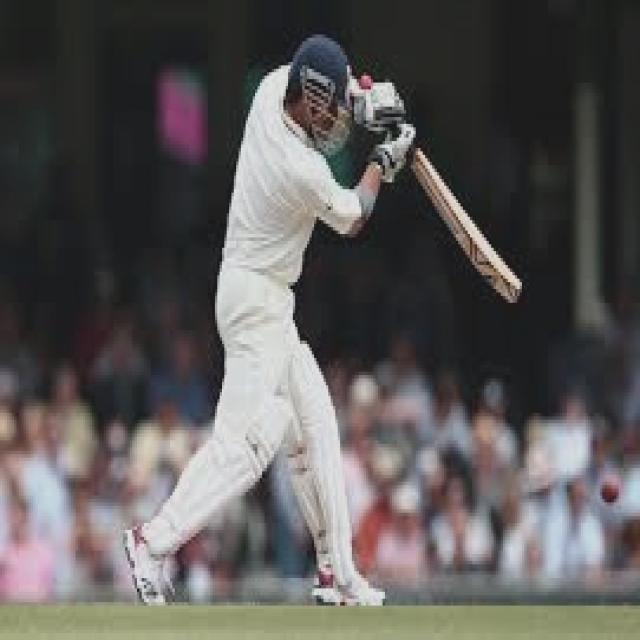bat: (404, 143, 539, 320)
toe: (511, 275, 525, 312)
